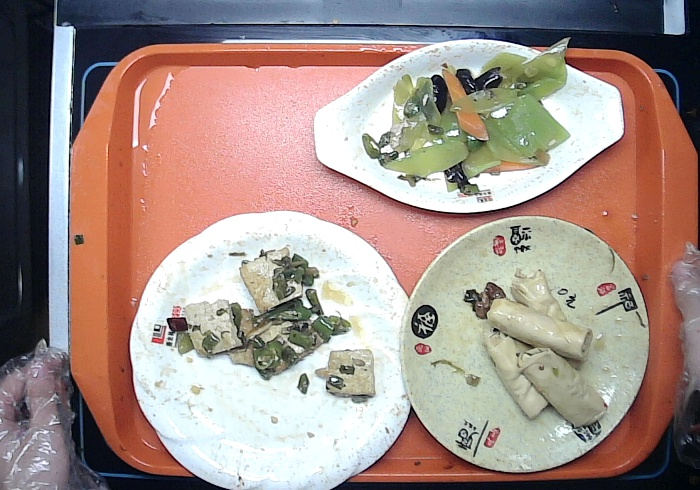NLDX-Bai_Zhe_Yuan_Pan: (128, 209, 412, 490)
NLDX-Fu_Zi_Yuan_Pan: (399, 215, 650, 473)
NLDX-Yu_Pan: (312, 40, 624, 212)
